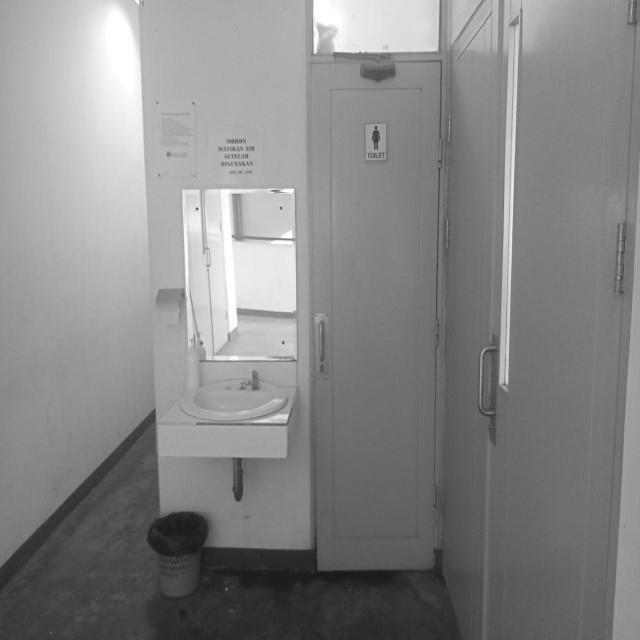door: (304, 48, 452, 577)
